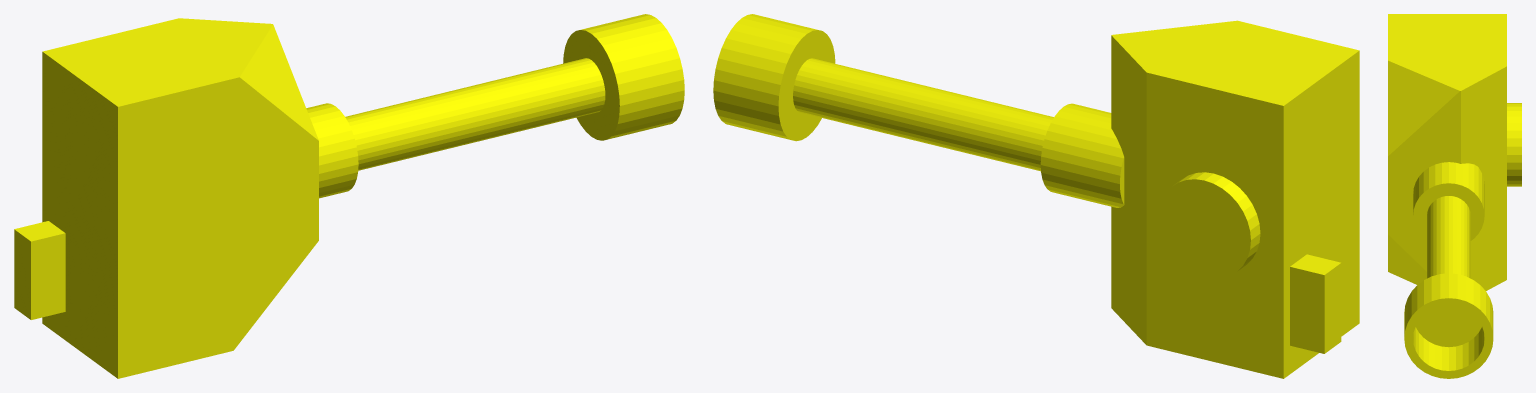
File: Enemy03Head.fbx
3 renders of one model, left to right at view 1: azimuth 30°, elevation 25°; view 2: azimuth 150°, elevation 25°; view 3: azimuth 270°, elevation 25°, orthographic. The views are drawn at different scales.
Parts seen in each view (by area): view 1: Head; view 2: Head; view 3: Head.
Part boxes in pixels (x1,y1,x2,y2): Head: (14,14,684,378); Head: (713,14,1359,378); Head: (1388,14,1521,378).
Size of the model in its own units: 212 by 90.14 by 51.11.
1 material, 1 textured.
